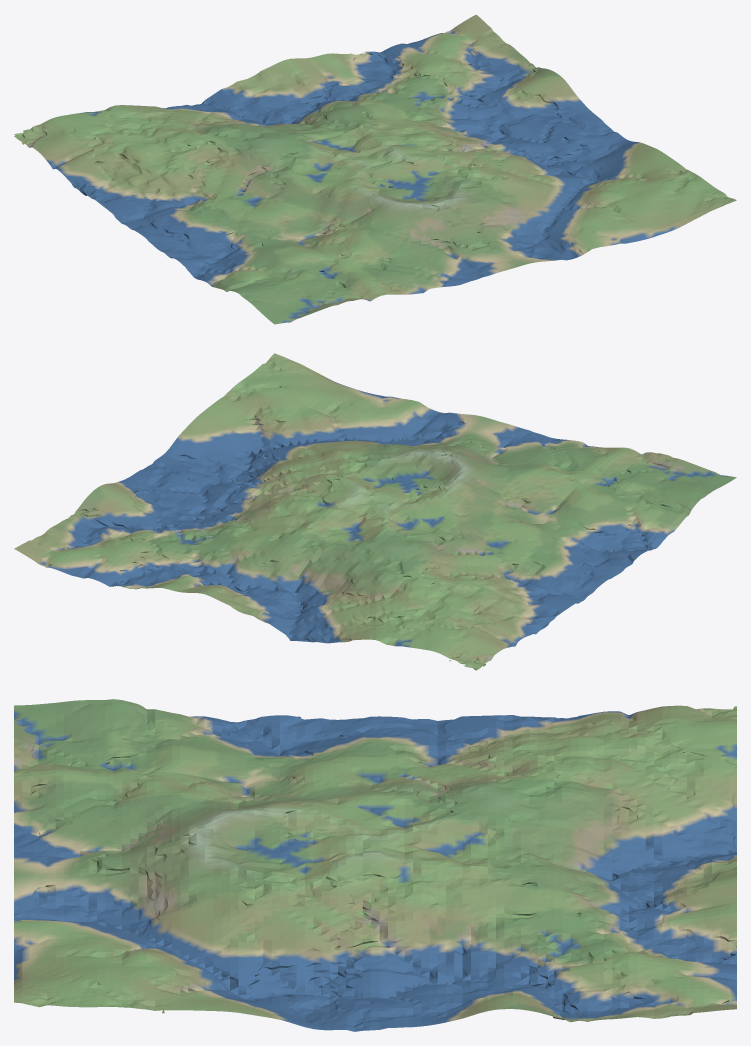
3 renders of one model, top to bottom at view 1: azimuth 30°, elevation 25°; view 2: azimuth 150°, elevation 25°; view 3: azimuth 270°, elevation 25°, orthographic. The views are drawn at different scales.
Size of the model in its own units: 2064 by 162 by 2016.
